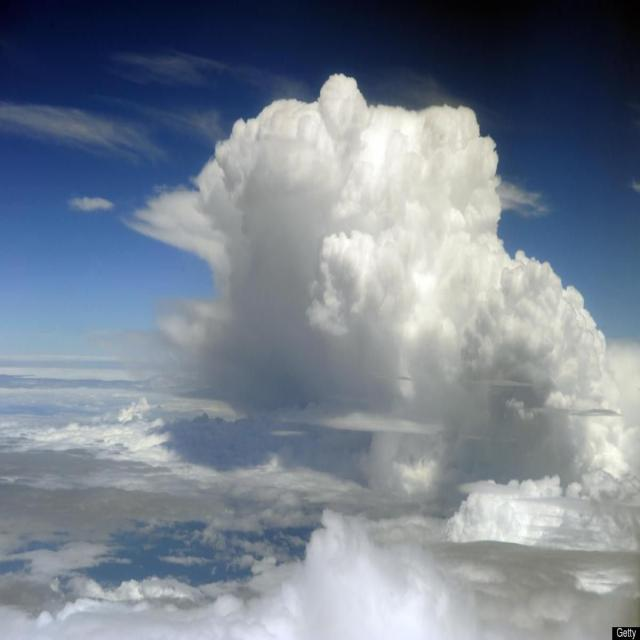cumulonimbus: (8, 68, 640, 569)
